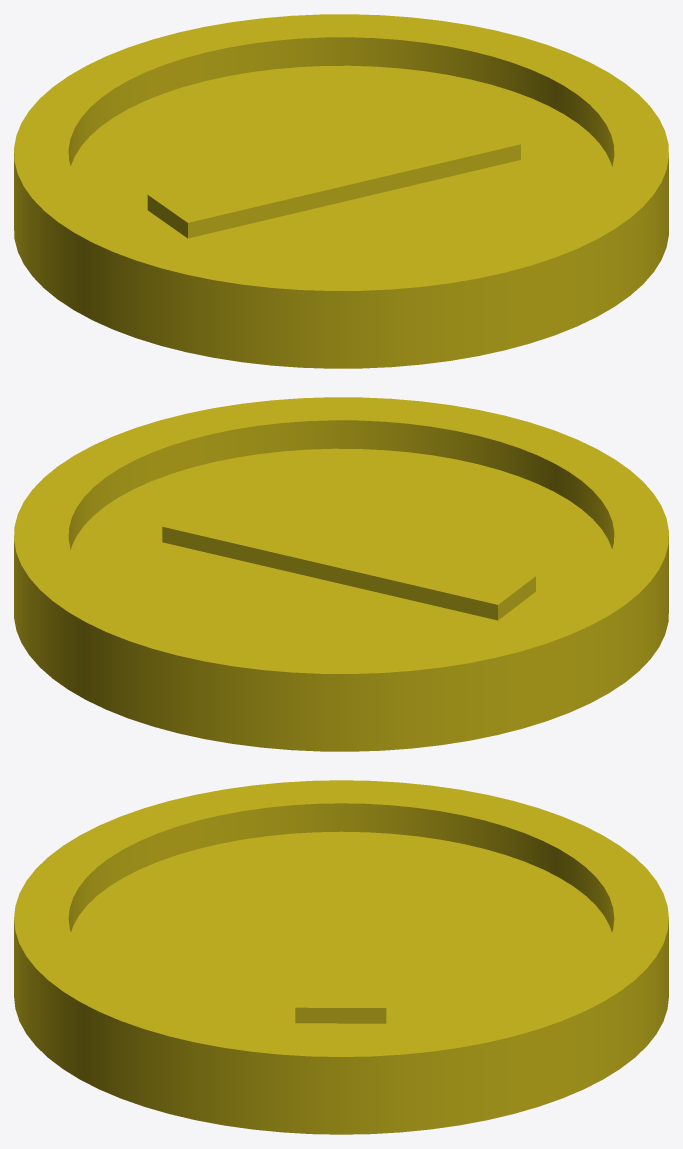
File: Coin.fbx
3 renders of one model, top to bottom at view 1: azimuth 30°, elevation 25°; view 2: azimuth 150°, elevation 25°; view 3: azimuth 270°, elevation 25°, orthographic.
Visible parts, largest first — view 1: Cylinder001; view 2: Cylinder001; view 3: Cylinder001.
Boxes of the visible parts, x1,y1,x2,y2 form: Cylinder001: [14, 14, 668, 368]; Cylinder001: [14, 397, 668, 751]; Cylinder001: [14, 780, 668, 1134].
Bounding box in the file's own units: 52.37 × 6.85 × 52.37.
